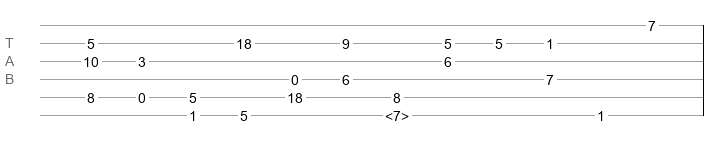0: (138, 90, 146, 100), (291, 72, 299, 82)
1: (189, 108, 197, 118), (546, 36, 554, 46), (597, 108, 605, 118)
10: (83, 54, 99, 64)
18: (236, 36, 252, 46), (287, 90, 303, 100)
3: (138, 54, 146, 64)
5: (87, 36, 95, 46), (189, 90, 197, 100), (240, 108, 248, 118), (444, 36, 452, 46), (495, 36, 503, 46)
6: (342, 72, 350, 82), (444, 54, 452, 64)
7: (546, 72, 554, 82), (648, 18, 656, 28)
8: (87, 90, 95, 100), (393, 90, 401, 100)
9: (342, 36, 350, 46)
harmonic: (385, 108, 409, 118)
